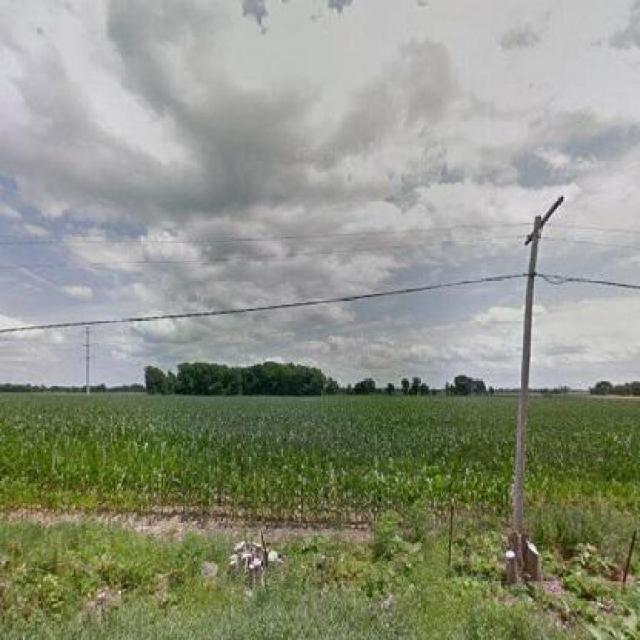pole: (503, 191, 572, 574)
